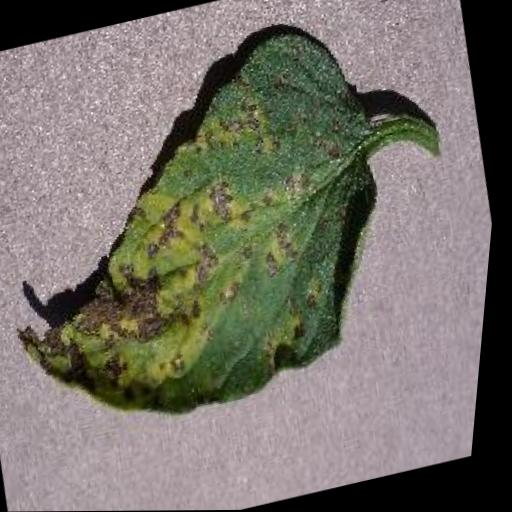Septoria: (0, 20, 431, 452)
